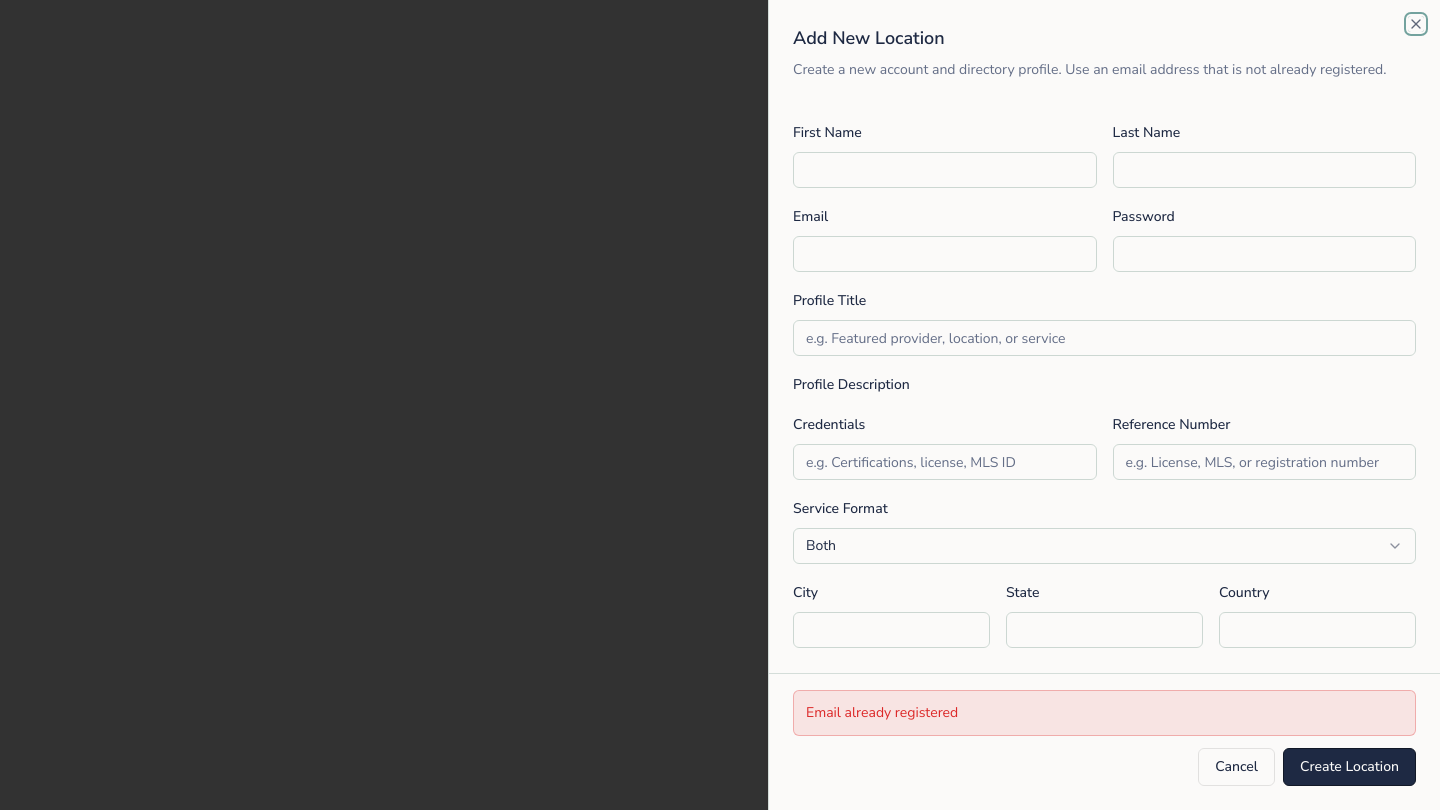
shows current validation errors instead of an earlier server failure
Click the button with test id "button-add-submit": (1350, 767) [1283,748,1416,786]
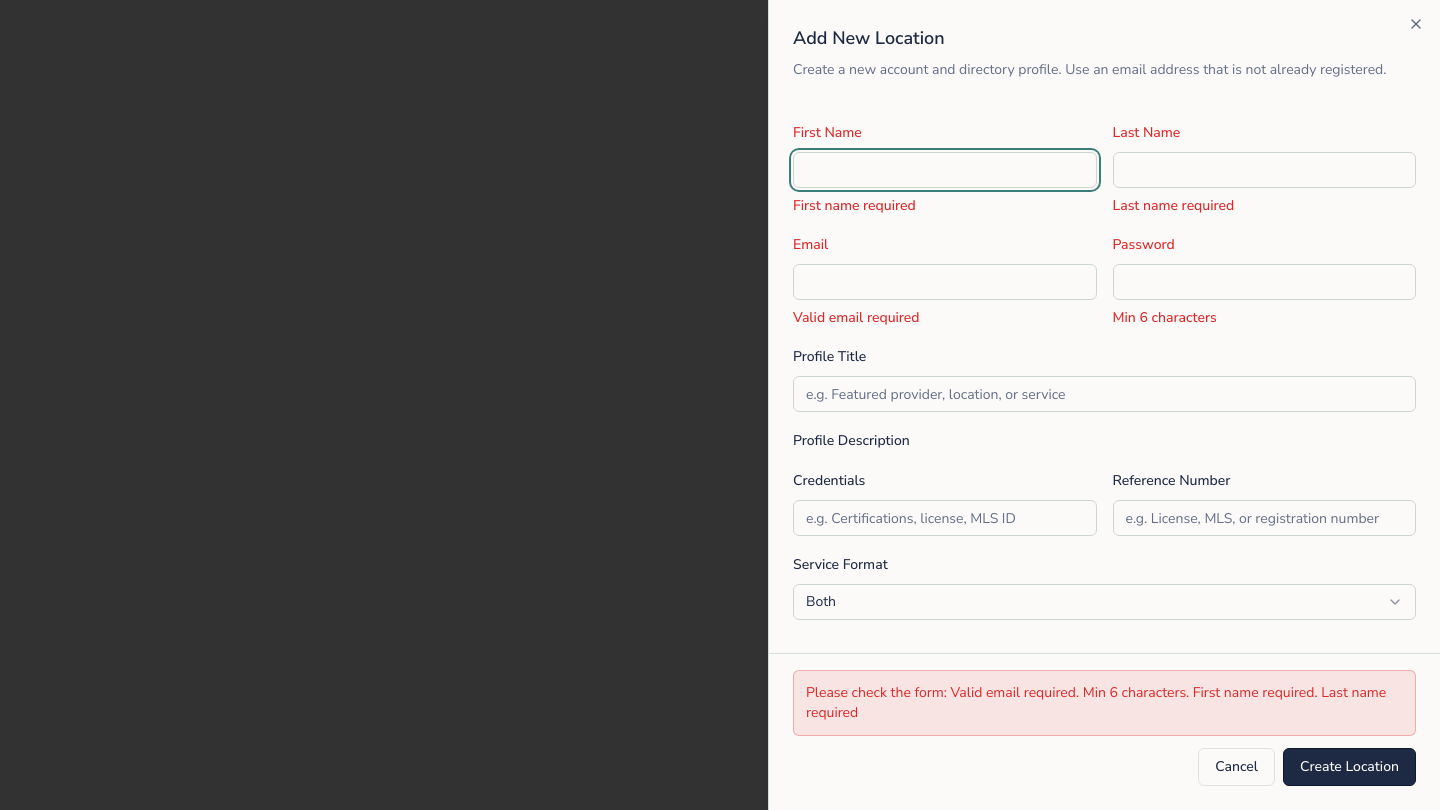
Check: the message with test id "add-profile-error" shows "First name required", box [806,683,1386,722]
Check: the message with test id "add-profile-error" no longer shows "Email already registered"
